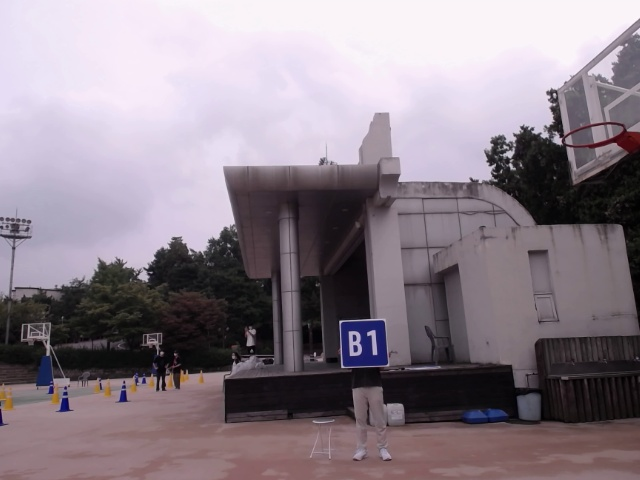delivery_b1: (339, 318, 389, 368)
